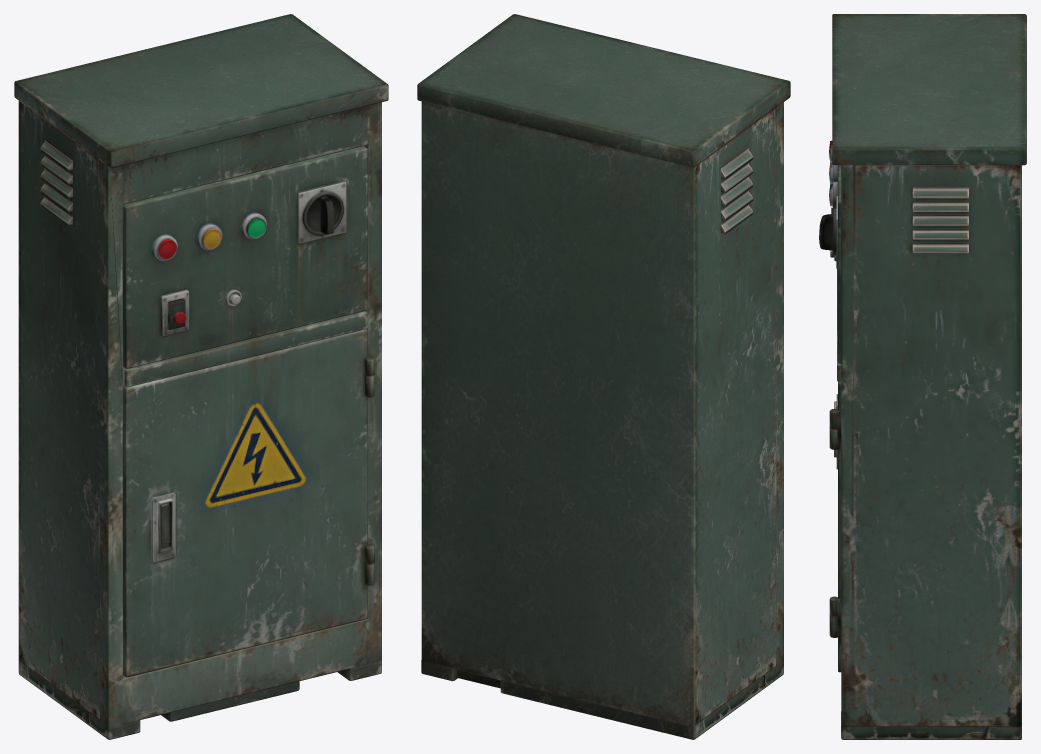
File: 维修柜.glb
3 views of the same model, side by side, from view 1: azimuth 30°, elevation 25°; view 2: azimuth 150°, elevation 25°; view 3: azimuth 270°, elevation 25° (orthographic).
Parts seen in each view (by area): view 1: tripo_node_87a9700b-881e-42fd-8c27-00f9a084278b; view 2: tripo_node_87a9700b-881e-42fd-8c27-00f9a084278b; view 3: tripo_node_87a9700b-881e-42fd-8c27-00f9a084278b.
Part boxes in pixels (left/top/right/bottom): tripo_node_87a9700b-881e-42fd-8c27-00f9a084278b: left=14, top=14, right=388, bottom=739; tripo_node_87a9700b-881e-42fd-8c27-00f9a084278b: left=417, top=14, right=790, bottom=739; tripo_node_87a9700b-881e-42fd-8c27-00f9a084278b: left=819, top=14, right=1026, bottom=739.
Size of the model in its own units: 0.501 by 0.9995 by 0.3179.
Materials: 1 (1 with a texture image).
